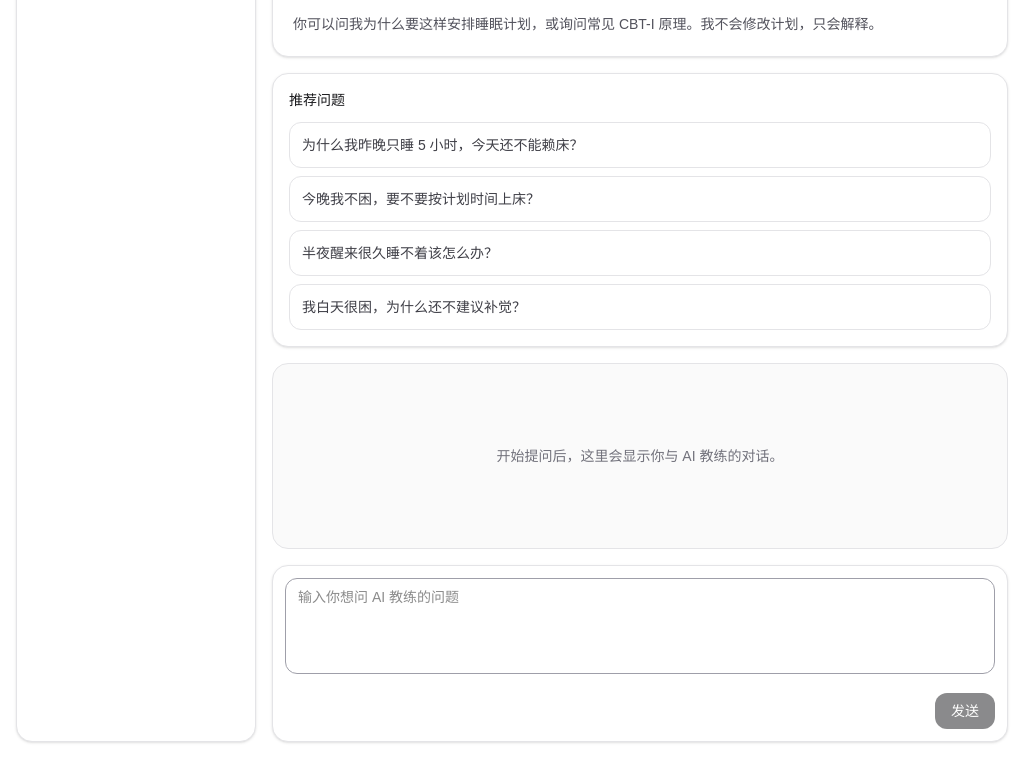
Test: CoachShell › blocked 模式下助手气泡使用安全提示样式
(page scrolled)
Click the button "为什么我昨晚只睡 5 小时，今天还不能赖床？". click: (443, 145)
box: x1=289 y1=122 x2=991 y2=168
(page scrolled)
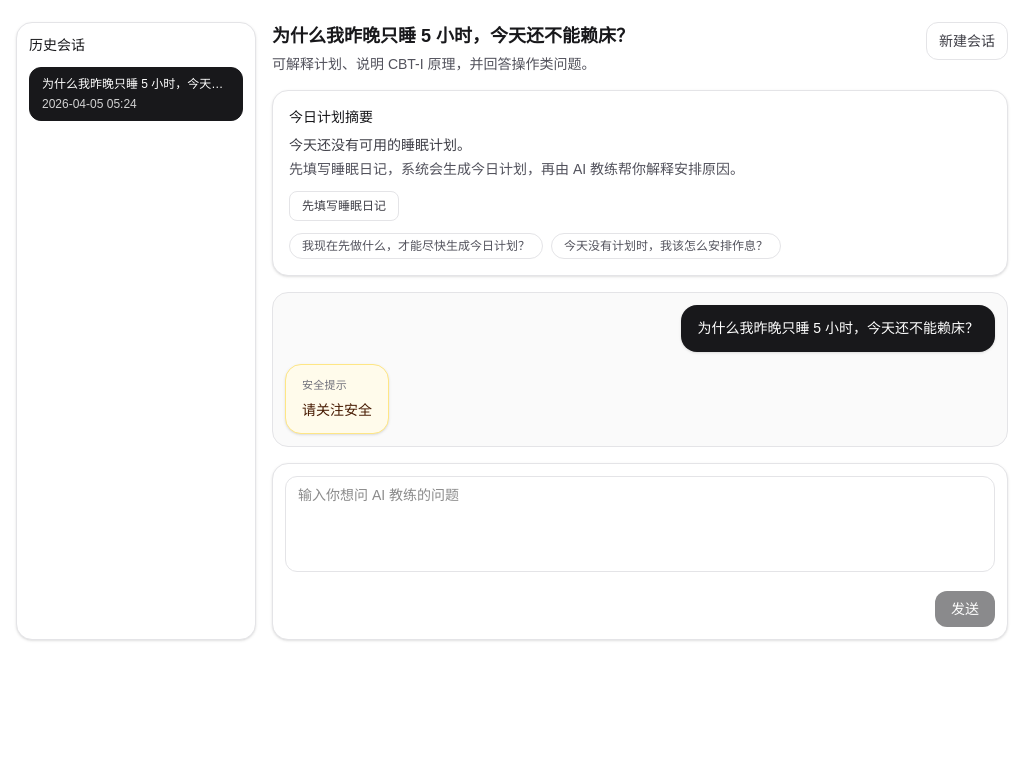
Now the text "安全提示" is shown, box x1=302 y1=379 x2=347 y2=391
Now the text "请关注安全" is shown, box x1=302 y1=399 x2=372 y2=421
